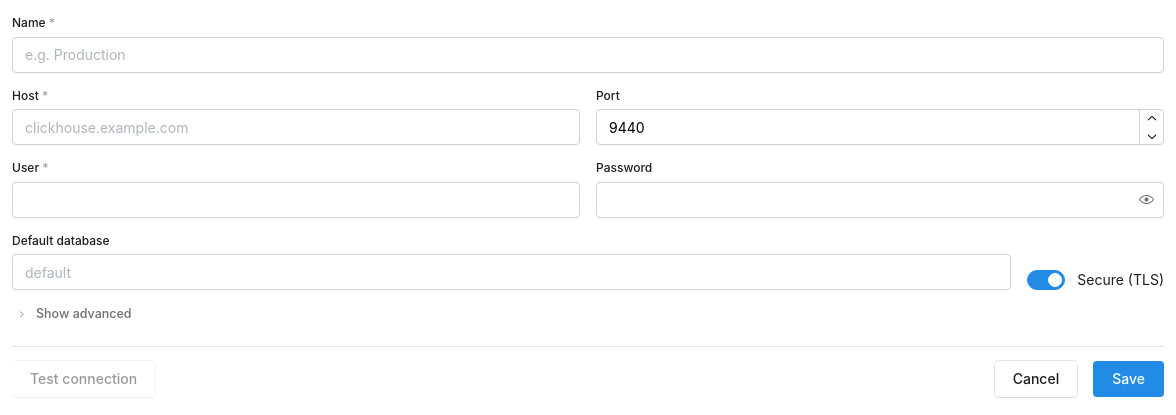
Test: ConnectionForm › swaps 9440 for 9000 when TLS goes off, and back
Check: the field labelled "Port" holds "9440", box [596,109,1164,145]
Click the switch labelled "Secure (TLS)". click: (1096, 280)
box: [1027,270,1164,290]
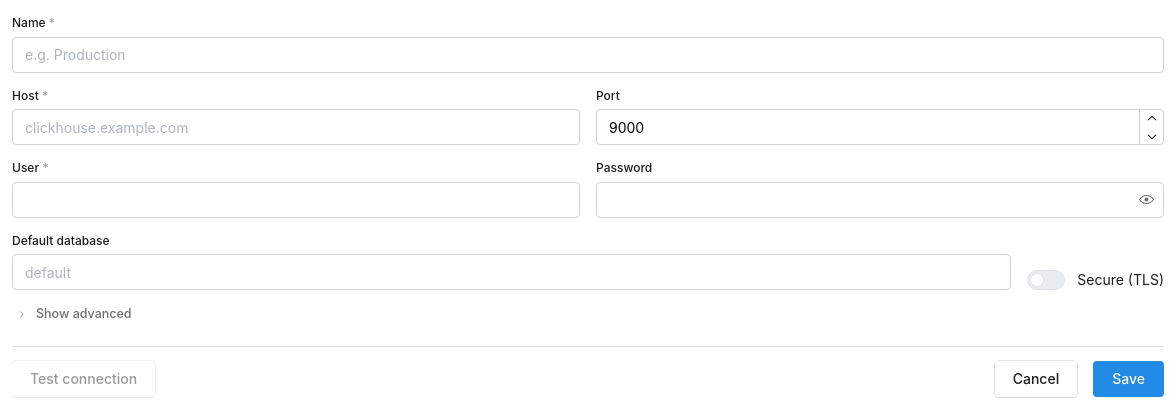
Check: the field labelled "Port" holds "9000", box [596,109,1164,145]
Click the switch labelled "Secure (TLS)". click: (1096, 280)
box: [1027,270,1164,290]
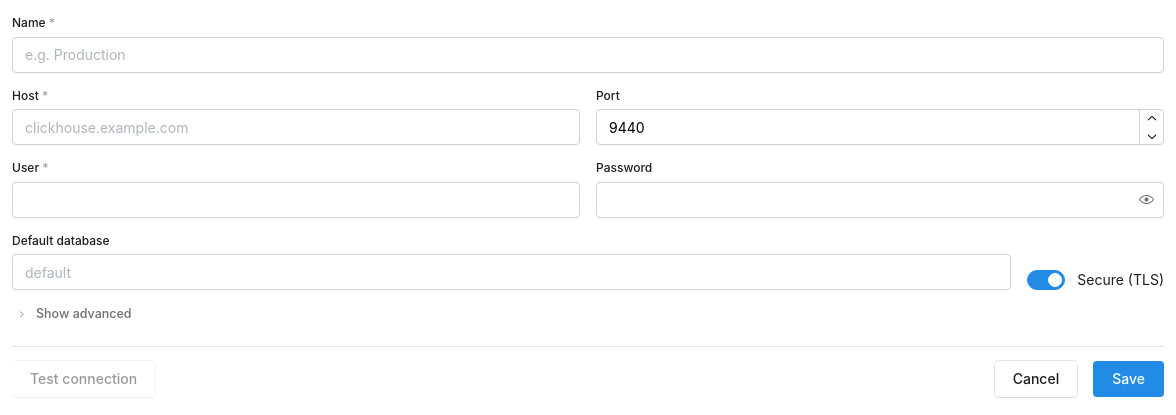
Check: the field labelled "Port" holds "9440", box [596,109,1164,145]
